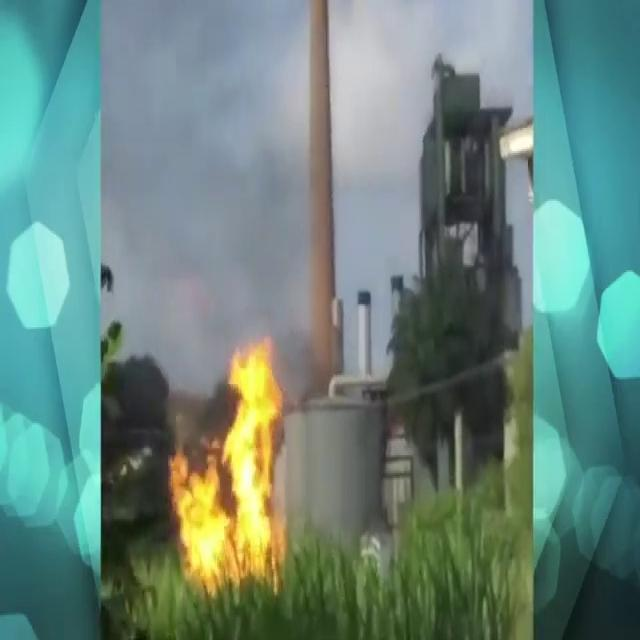Fire: (230, 370, 268, 567), (185, 478, 218, 580)
